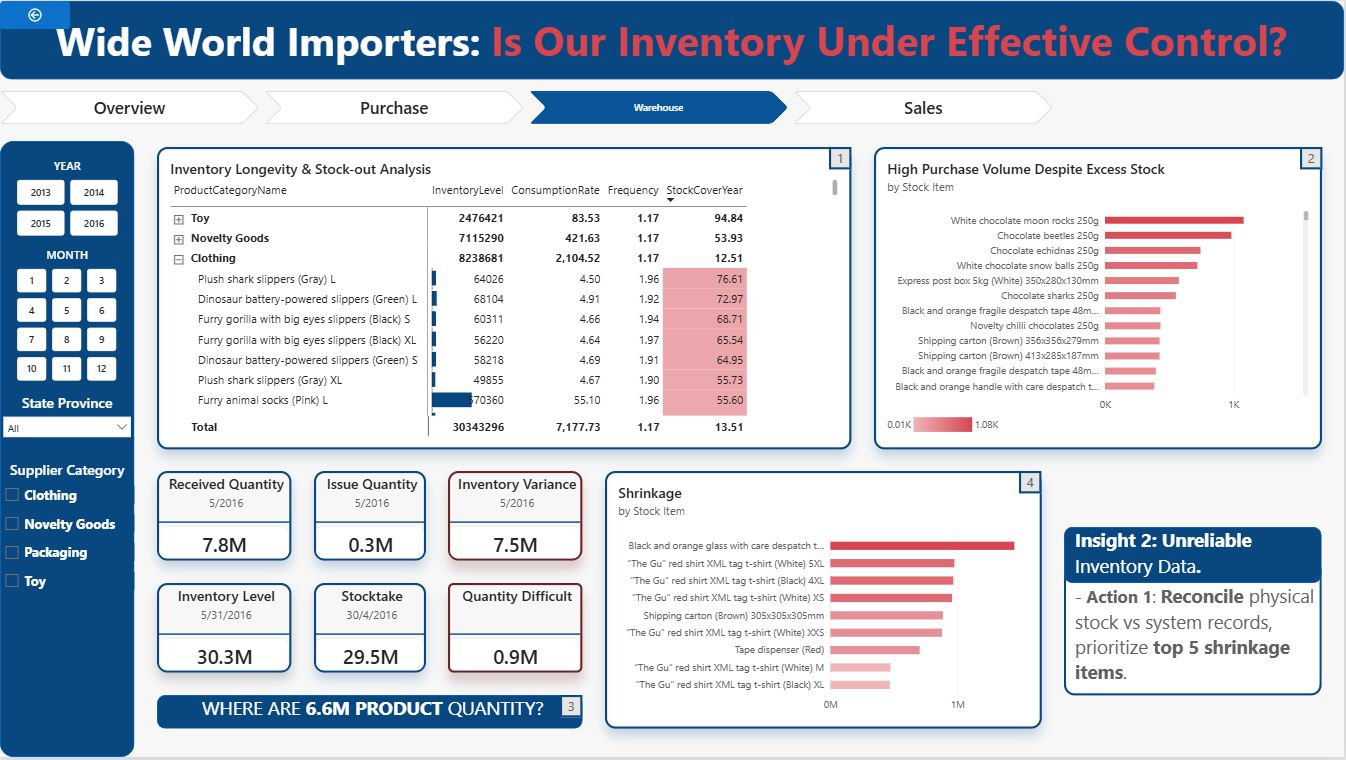

The dashboard page shown, as its layout file describes it:
{"tool":"powerbi","page":{"name":"Warehouse","canvas":[1920,1080],"ordinal":2},"visuals":[{"type":"shape","box":[0,200,192,880],"z":0},{"type":"shape","box":[0,0,1920,112],"z":1000},{"type":"advancedSlicerVisual","title":"YEAR","fields":{"Values":["Calendar.Date.Variation.Date Hierarchy.Year"]},"box":[24,224,144,112],"z":2000},{"type":"advancedSlicerVisual","title":"MONTH","fields":{"Values":["Calendar.MonthNo"]},"box":[24,352,144,192],"z":3000},{"type":"pivotTable","title":"Inventory Longevity & Stock-out Analysis","fields":{"Rows":["Purchasing SupplierCategories.ProductCategoryName","Warehouse StockItems.StockItemName"],"Values":["Sum(Warehouse StockItemHoldings.QuantityOnHand)","FactSalesInvoices.Avg_Daily_Sales","FactSalesInvoices.Frequency_Factor","FactSalesInvoices.StockCoverYear"]},"box":[224,208,992,432],"z":4000,"group":"g2"},{"type":"cardVisual","title":"Inventory Level","fields":{"Data":["Sum(Warehouse StockItemHoldings.QuantityOnHand)"]},"box":[224,832,192,128],"z":4000},{"type":"cardVisual","title":"Quantity Difficult","fields":{"Data":["*Measure.Shrinkage"]},"box":[640,832,192,128],"z":5000},{"type":"cardVisual","title":"Received Quantity","fields":{"Data":["Sum(Warehouse StockItemTransactions.Quantity)"]},"box":[224,672,192,128],"z":6000},{"type":"cardVisual","title":"Issue Quantity","fields":{"Data":["Sum(Sales InvoiceLines.Quantity)"]},"box":[448,672,160,128],"z":7000},{"type":"cardVisual","title":"Inventory Variance","fields":{"Data":["*Measure.Inventory Variance in May/2016"]},"box":[640,672,192,128],"z":8000},{"type":"cardVisual","title":"Stocktake","fields":{"Data":["Sum(Warehouse StockItemHoldings.LastStocktakeQuantity)"]},"box":[448,832,160,128],"z":9000},{"type":"textbox","box":[80,16,1760,96],"z":10000},{"type":"group","id":"g1","title":"Group 3","box":[1520,752,368,240],"z":11000},{"type":"shape","box":[224,992,608,48],"z":11000,"group":"g4"},{"type":"pageNavigator","box":[0,128,1504,48],"z":12000},{"type":"slicer","title":"Supplier Category","fields":{"Values":["Purchasing SupplierCategories.ProductCategoryName"]},"box":[0,656,192,208],"z":13000},{"type":"actionButton","box":[0,0,100,40],"z":14000},{"type":"textbox","box":[288,992,496,48],"z":14000,"group":"g4"},{"type":"slicer","title":"State Province","fields":{"Values":["Application StateProvinces.StateProvinceName"]},"box":[0,560,192,64],"z":15000},{"type":"shape","box":[1520,800,368,192],"z":15000,"group":"g1"},{"type":"group","id":"g2","title":"Group 1","box":[224,208,992,416],"z":16000},{"type":"shape","box":[1520,752,368,80],"z":16000,"group":"g1"},{"type":"group","id":"g3","title":"Group 2","box":[1248,208,640,432],"z":17000},{"type":"barChart","title":"Shrinkage","fields":{"Category":["Warehouse StockItems.StockItemName"],"Y":["*Measure.Shrinkage 1"]},"box":[864,672,624,368],"z":17000,"group":"g5"},{"type":"textbox","box":[1536,752,352,80],"z":17000,"group":"g1"},{"type":"textbox","box":[1536,832,352,160],"z":18000,"group":"g1"},{"type":"group","id":"g4","title":"Group 4","box":[224,992,608,48],"z":18000},{"type":"textbox","box":[800,992,32,32],"z":18000,"group":"g4"},{"type":"textbox","box":[1184,208,32,32],"z":19000,"group":"g2"},{"type":"group","id":"g5","title":"Group 5","box":[864,672,624,368],"z":19000},{"type":"textbox","box":[1456,672,32,32],"z":20000,"group":"g5"},{"type":"barChart","title":"High Purchase Volume Despite Excess Stock","fields":{"Category":["Warehouse StockItems.StockItemName"],"Y":["Sum(Warehouse StockItemTransactions.Quantity)"]},"box":[1248,208,640,432],"z":24000,"group":"g3"},{"type":"textbox","box":[1856,208,32,32],"z":25000,"group":"g3"}]}

Visuals, with their boxes in screenshot pixels (x1, y1, x2, y2), scaled from the page's 1920x1080 canvas onto the 1346x760 screenshot:
shape: (0, 141, 135, 759)
shape: (0, 0, 1345, 79)
"YEAR" advancedSlicerVisual: (17, 158, 118, 236)
"MONTH" advancedSlicerVisual: (17, 248, 118, 383)
"Inventory Longevity & Stock-out Analysis" pivotTable: (157, 146, 852, 450)
"Inventory Level" cardVisual: (157, 585, 292, 676)
"Quantity Difficult" cardVisual: (449, 585, 583, 676)
"Received Quantity" cardVisual: (157, 473, 292, 563)
"Issue Quantity" cardVisual: (314, 473, 426, 563)
"Inventory Variance" cardVisual: (449, 473, 583, 563)
"Stocktake" cardVisual: (314, 585, 426, 676)
textbox: (56, 11, 1290, 79)
"Group 3" group: (1066, 529, 1324, 698)
shape: (157, 698, 583, 732)
pageNavigator: (0, 90, 1054, 124)
"Supplier Category" slicer: (0, 462, 135, 608)
actionButton: (0, 0, 70, 28)
textbox: (202, 698, 550, 732)
"State Province" slicer: (0, 394, 135, 439)
shape: (1066, 563, 1324, 698)
"Group 1" group: (157, 146, 852, 439)
shape: (1066, 529, 1324, 585)
"Group 2" group: (875, 146, 1324, 450)
"Shrinkage" barChart: (606, 473, 1043, 732)
textbox: (1077, 529, 1324, 585)
textbox: (1077, 585, 1324, 698)
"Group 4" group: (157, 698, 583, 732)
textbox: (561, 698, 583, 721)
textbox: (830, 146, 852, 169)
"Group 5" group: (606, 473, 1043, 732)
textbox: (1021, 473, 1043, 495)
"High Purchase Volume Despite Excess Stock" barChart: (875, 146, 1324, 450)
textbox: (1301, 146, 1324, 169)
